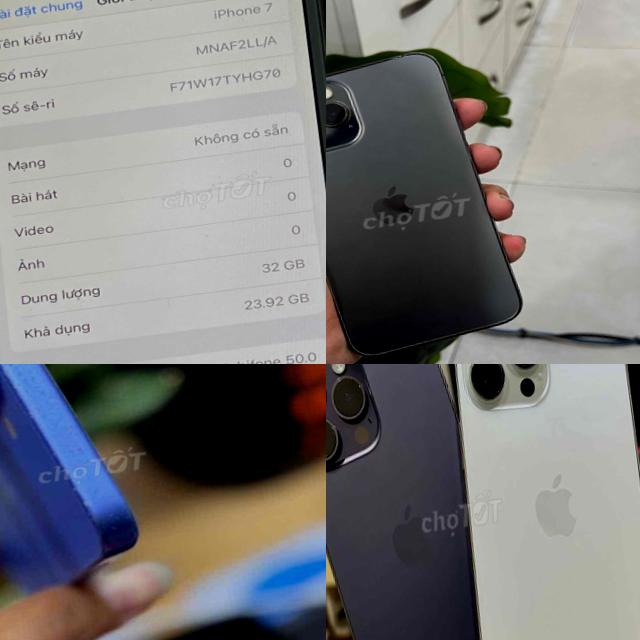gen_12_13: (326, 40, 531, 364)
gen_14: (420, 364, 640, 640)
gen_16: (0, 364, 137, 593)
gen_7_8: (0, 0, 326, 364)
scratch: (0, 364, 128, 552)
